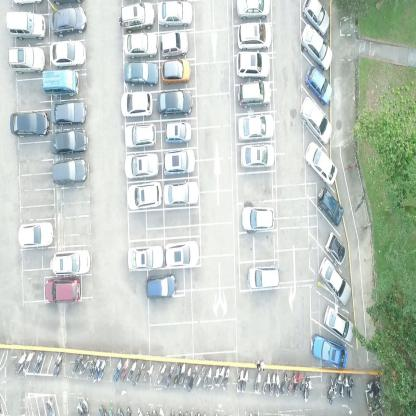car: (300, 22, 334, 70), (303, 141, 338, 186), (300, 95, 332, 144), (319, 257, 351, 305), (309, 334, 347, 371), (323, 304, 355, 343), (49, 6, 87, 38), (305, 64, 333, 106), (5, 12, 46, 40), (50, 126, 88, 156), (7, 45, 45, 75), (50, 249, 91, 276), (10, 110, 49, 138), (316, 187, 343, 227), (118, 2, 154, 32), (127, 243, 164, 272), (44, 276, 82, 304), (42, 70, 80, 98), (50, 38, 85, 68), (236, 22, 272, 51), (235, 50, 271, 79), (237, 114, 275, 141), (237, 78, 271, 108), (241, 204, 275, 234), (164, 241, 199, 270), (302, 0, 330, 36), (156, 0, 192, 28), (156, 89, 193, 116), (126, 183, 162, 210), (122, 31, 158, 58), (121, 89, 153, 119), (18, 222, 53, 249), (124, 153, 159, 180), (51, 99, 87, 125), (247, 263, 280, 291), (124, 122, 157, 150), (51, 159, 87, 184), (163, 181, 199, 206), (162, 149, 196, 175), (124, 62, 159, 87), (145, 272, 177, 298), (239, 144, 275, 167), (161, 58, 191, 85), (324, 231, 346, 266), (160, 30, 188, 56), (164, 119, 192, 144), (235, 0, 271, 19)
